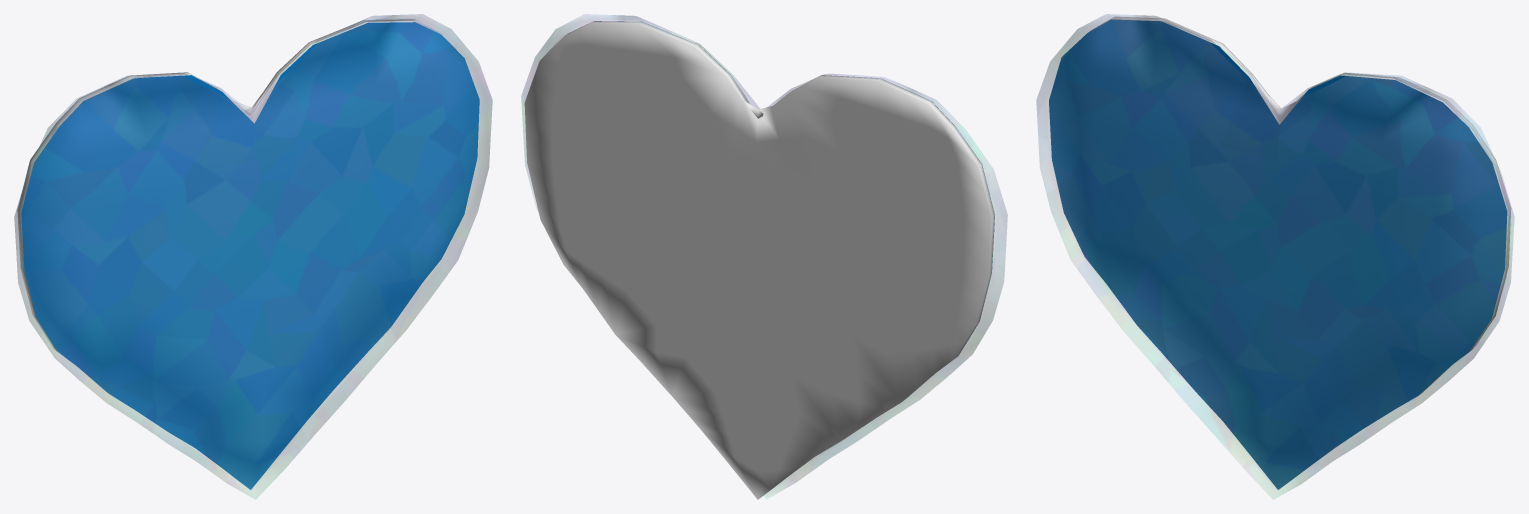
Rendered from heart_blue_holo.glb.
The picture shows the model from 3 angles, left to right: view 1: azimuth 30°, elevation 25°; view 2: azimuth 150°, elevation 25°; view 3: azimuth 330°, elevation 25°; orthographic projection.
Parts seen in each view (by area): view 1: 平面, PHOTO_PLANE, 平面11; view 2: 平面11, 平面; view 3: 平面, PHOTO_PLANE, 平面11.
Boxes of the visible parts, left/top/right/bottom form: 平面: left=14, top=14, right=492, bottom=499; PHOTO_PLANE: left=21, top=22, right=479, bottom=489; 平面11: left=17, top=19, right=439, bottom=391; 平面11: left=524, top=21, right=994, bottom=499; 平面: left=521, top=14, right=1007, bottom=498; 平面: left=1036, top=14, right=1514, bottom=499; PHOTO_PLANE: left=1049, top=19, right=1507, bottom=489; 平面11: left=1091, top=16, right=1511, bottom=394.
Bounding box in the file's own units: 2.28 × 2.05 × 0.1344.
3 materials, 1 textured.
